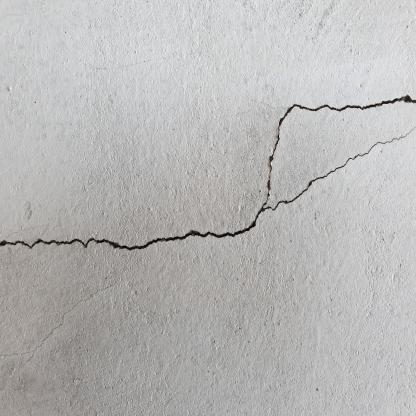crack: (0, 94, 416, 251)
